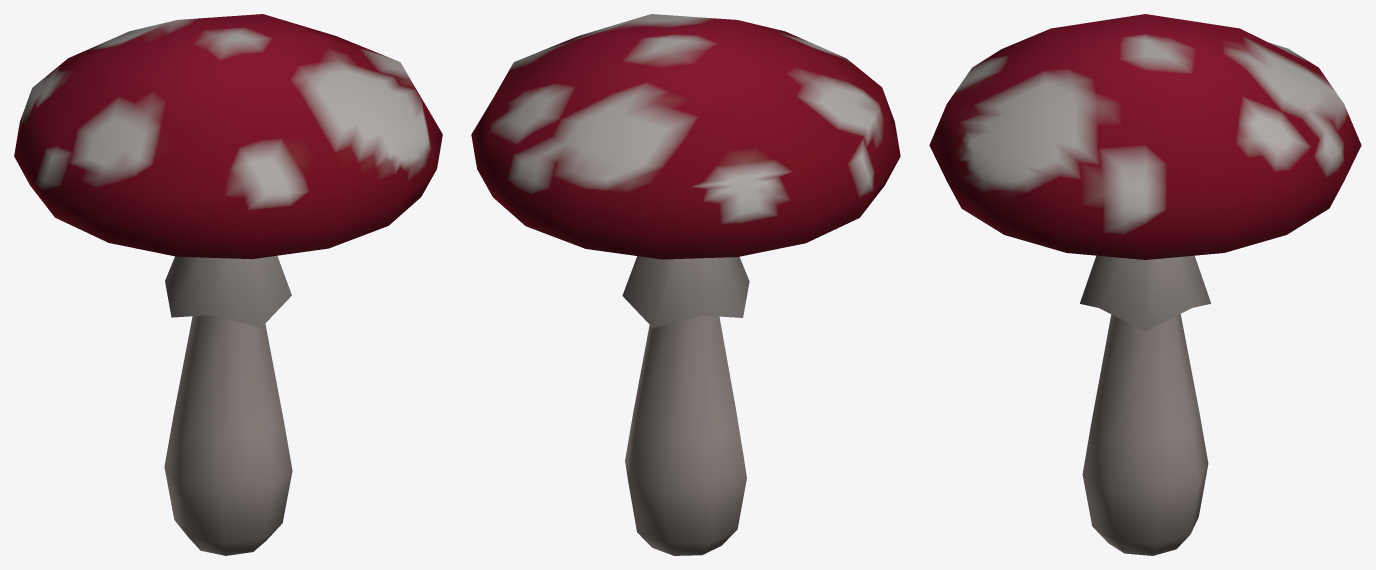
Rendered from prototype.glb.
3 renders of one model, left to right at view 1: azimuth 30°, elevation 25°; view 2: azimuth 150°, elevation 25°; view 3: azimuth 270°, elevation 25°, orthographic.
Parts seen in each view (by area): view 1: Fly_Agaric_Basic_baked; view 2: Fly_Agaric_Basic_baked; view 3: Fly_Agaric_Basic_baked.
Part boxes in pixels (x1,y1,x2,y2): Fly_Agaric_Basic_baked: (14,14,442,555); Fly_Agaric_Basic_baked: (471,14,900,555); Fly_Agaric_Basic_baked: (929,14,1361,555).
Bounding box in the file's own units: 0.7831 × 1 × 0.7831.
